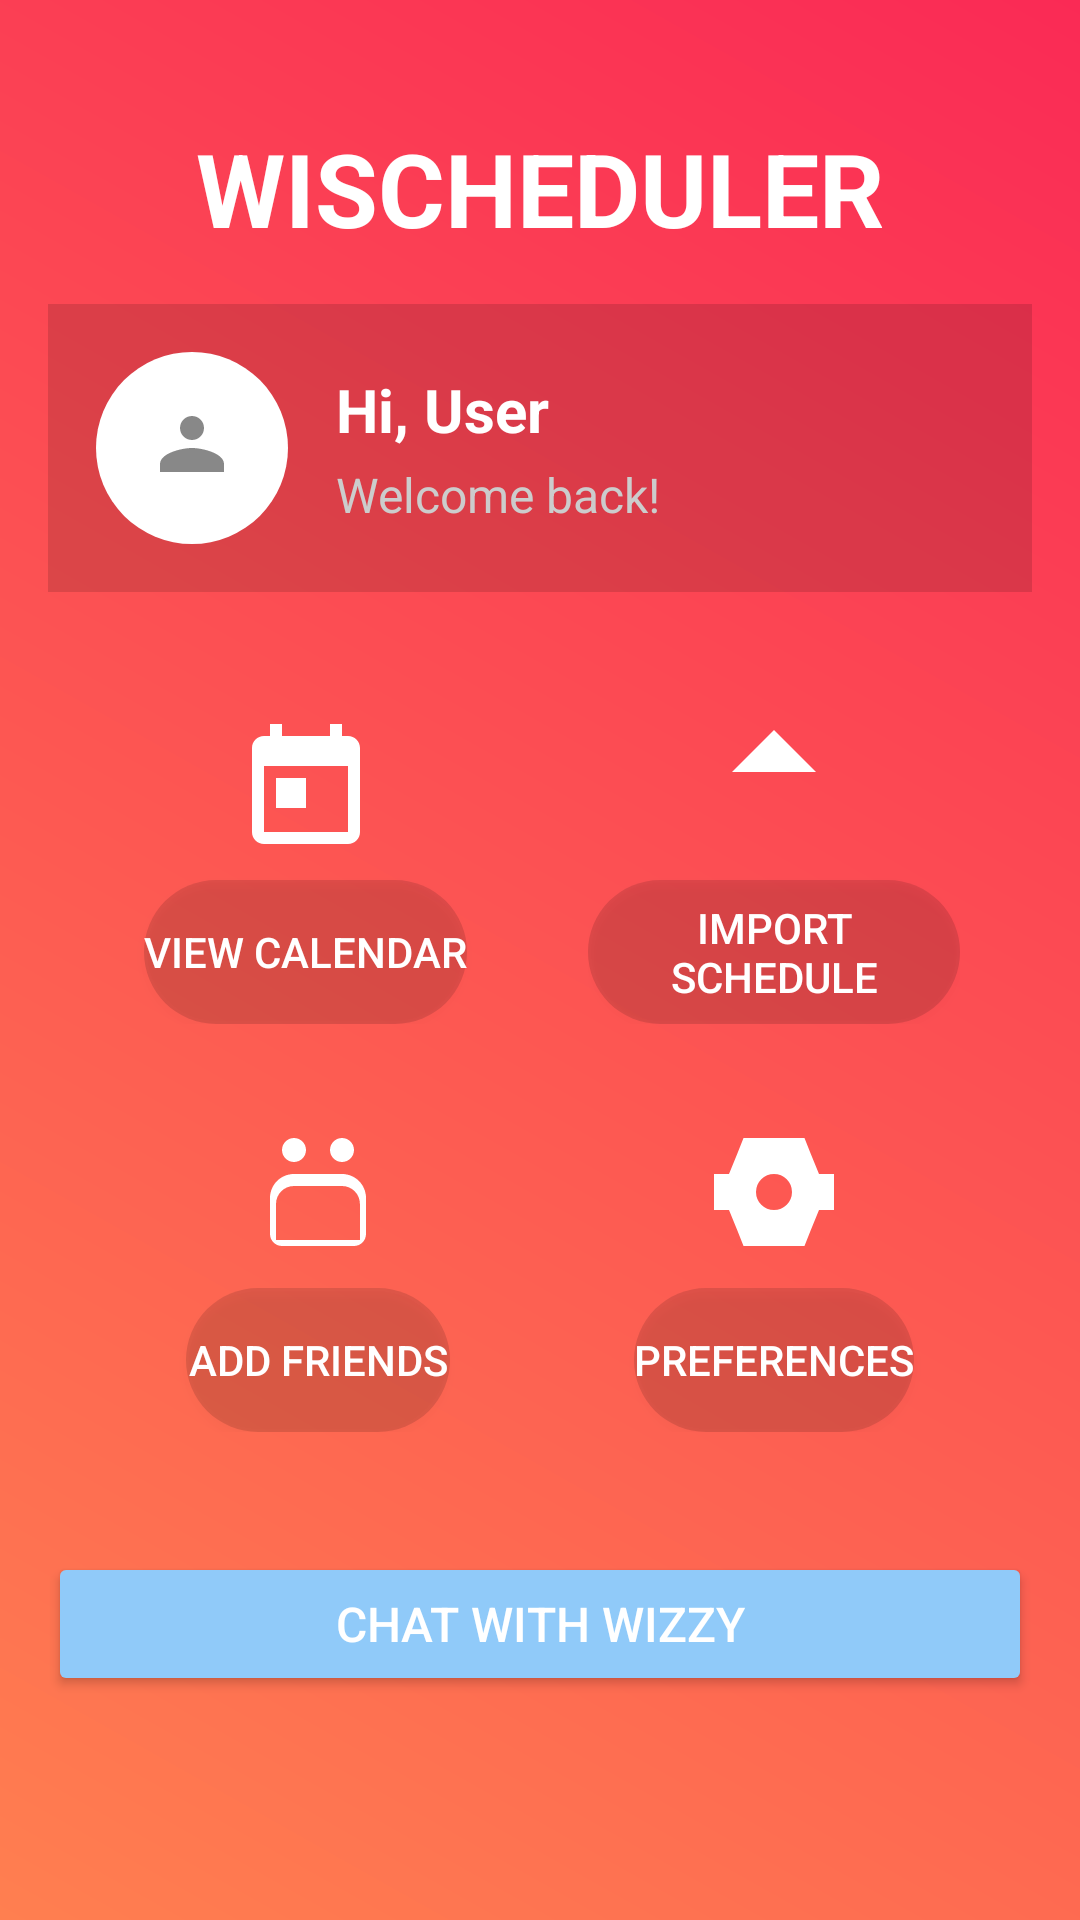

Named icons in this screenshot (1080w x 1920h) and their bounding boxes, (x1=x1, y1=y1, x2=x2, y2=y2):
person: (x1=160, y1=416, x2=224, y2=472)
settings: (x1=714, y1=1138, x2=834, y2=1246)
